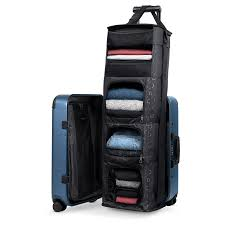suitcase: (50, 95, 181, 213)
